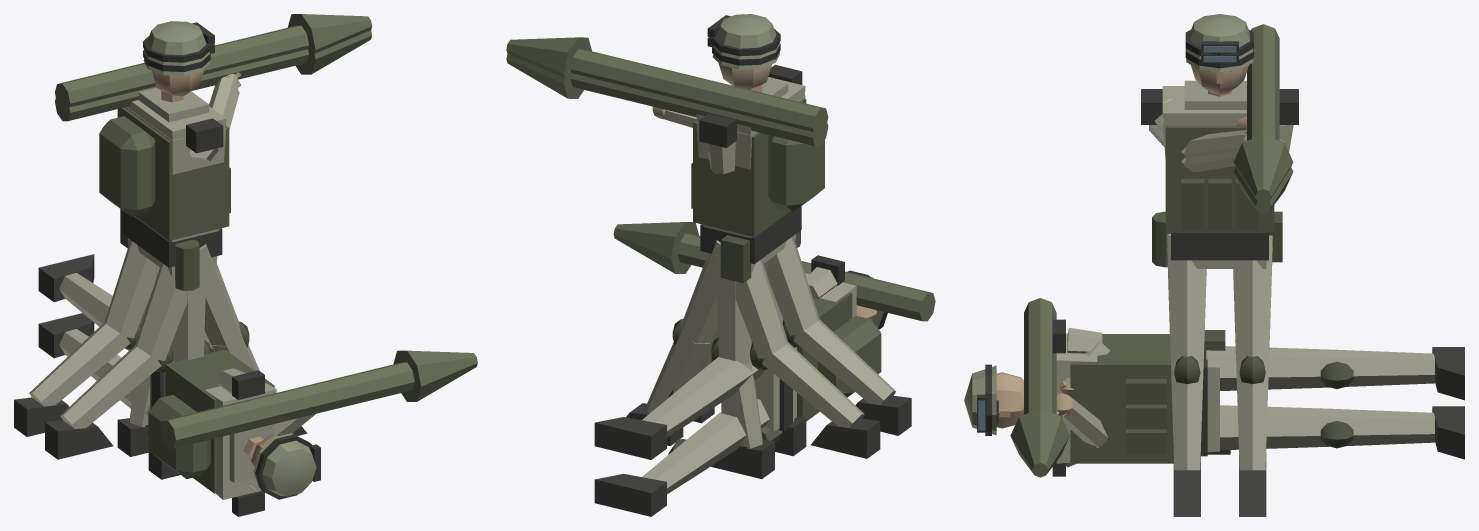
The picture shows the model from 3 angles, left to right: view 1: azimuth 30°, elevation 25°; view 2: azimuth 150°, elevation 25°; view 3: azimuth 270°, elevation 25°; orthographic projection. The views are drawn at different scales.
Parts seen in each view (by area): view 1: dead, hull, pose0, pose1, pose3; view 2: dead, hull, pose0, pose3, pose1; view 3: dead, hull, pose0, pose3, pose1.
Boxes of the visible parts, x1,y1,x2,y2 form: dead: [38, 254, 477, 516]; hull: [55, 14, 371, 452]; pose0: [55, 23, 371, 479]; pose1: [14, 241, 307, 436]; pose3: [45, 252, 214, 459]; dead: [594, 222, 935, 516]; hull: [506, 14, 828, 475]; pose0: [506, 37, 828, 478]; pose3: [626, 237, 911, 445]; pose1: [692, 249, 880, 458]; dead: [964, 298, 1464, 477]; hull: [1141, 14, 1298, 458]; pose0: [1141, 48, 1298, 353]; pose3: [1167, 233, 1272, 516]; pose1: [1167, 235, 1272, 516].
Bounding box in the file's own units: 1.58 × 1.84 × 1.84.
